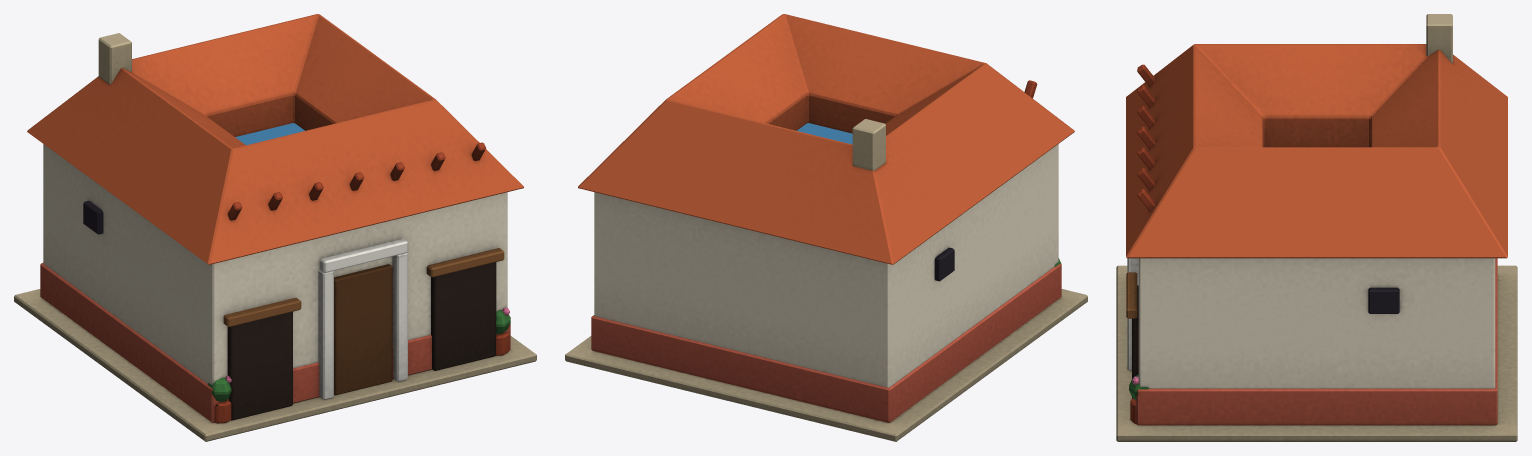
File: domus.glb
3 renders of one model, left to right at view 1: azimuth 30°, elevation 25°; view 2: azimuth 150°, elevation 25°; view 3: azimuth 270°, elevation 25°, orthographic. The views are drawn at different scales.
Visible parts, largest first — view 1: domus, anim_woda_impluvium; view 2: domus, anim_woda_impluvium; view 3: domus.
Boxes of the visible parts, <box> form: domus: <box>14,14,536,441</box>; anim_woda_impluvium: <box>235,123,304,145</box>; domus: <box>565,14,1087,441</box>; anim_woda_impluvium: <box>797,123,852,144</box>; domus: <box>1116,14,1517,441</box>.
Size of the model in its own units: 1.8 by 1.42 by 1.8.
Materials: 2 (1 with a texture image).
